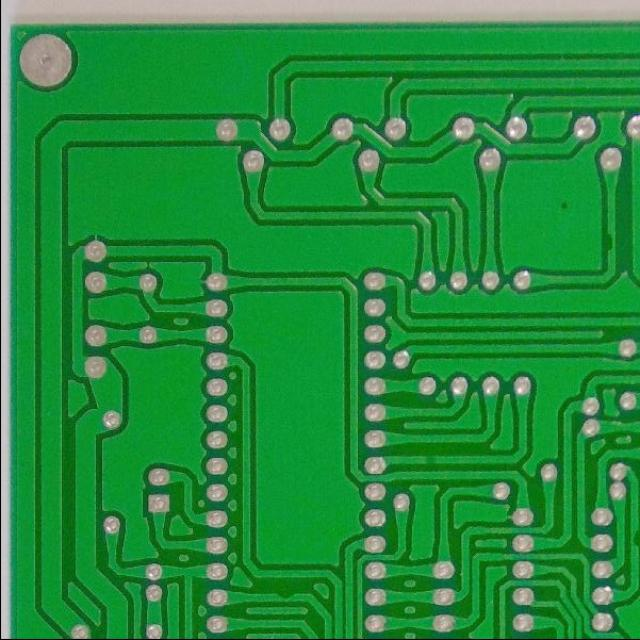mouse_bite: (600, 226, 618, 256), (273, 586, 297, 602)
